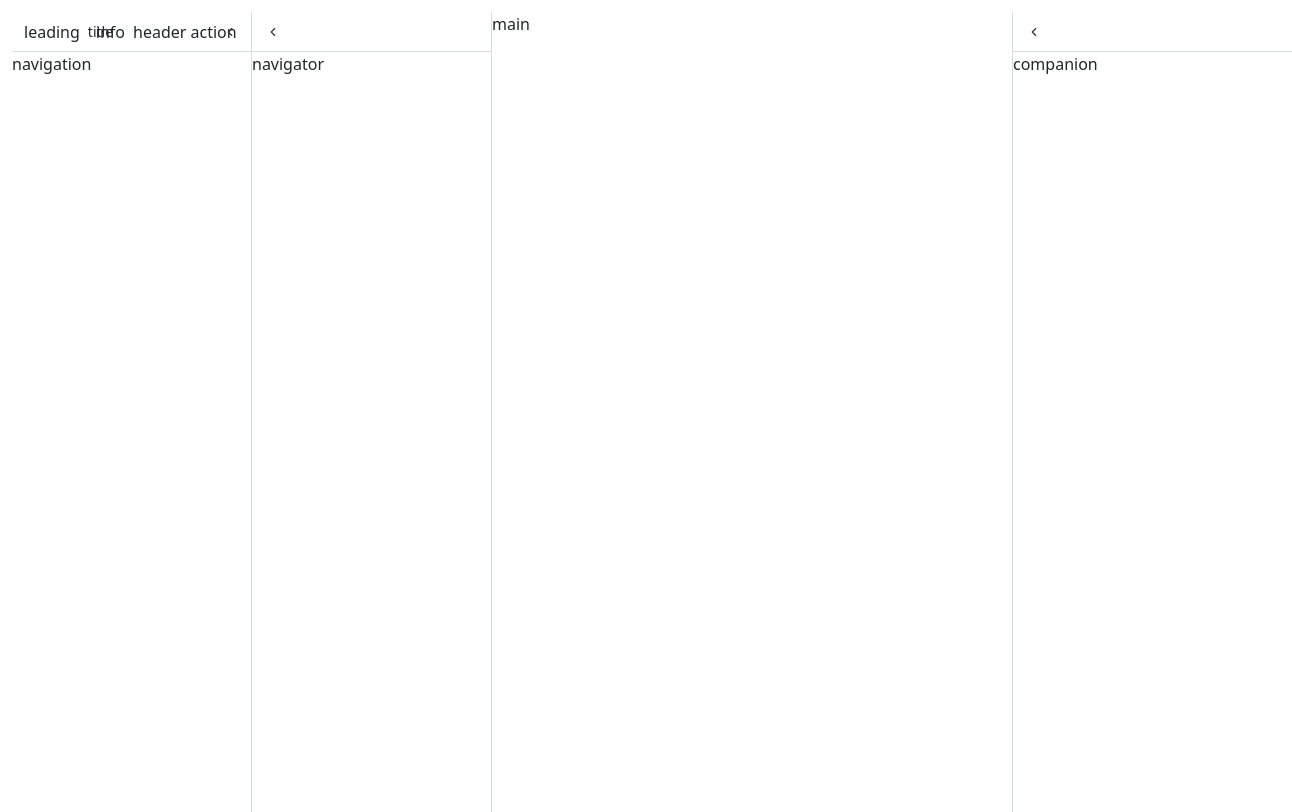
Test: ProductShell › applies the shared column surface, header slots and read-only collapse state
Expected: the text "leading" is shown, [24,20,80,44]
Expected: the text "title" is shown, [88,22,113,40]
Click the button named "shared.shell.collapseSidebar" in the row of "info".
click(230, 32)  # box [221,22,239,40]
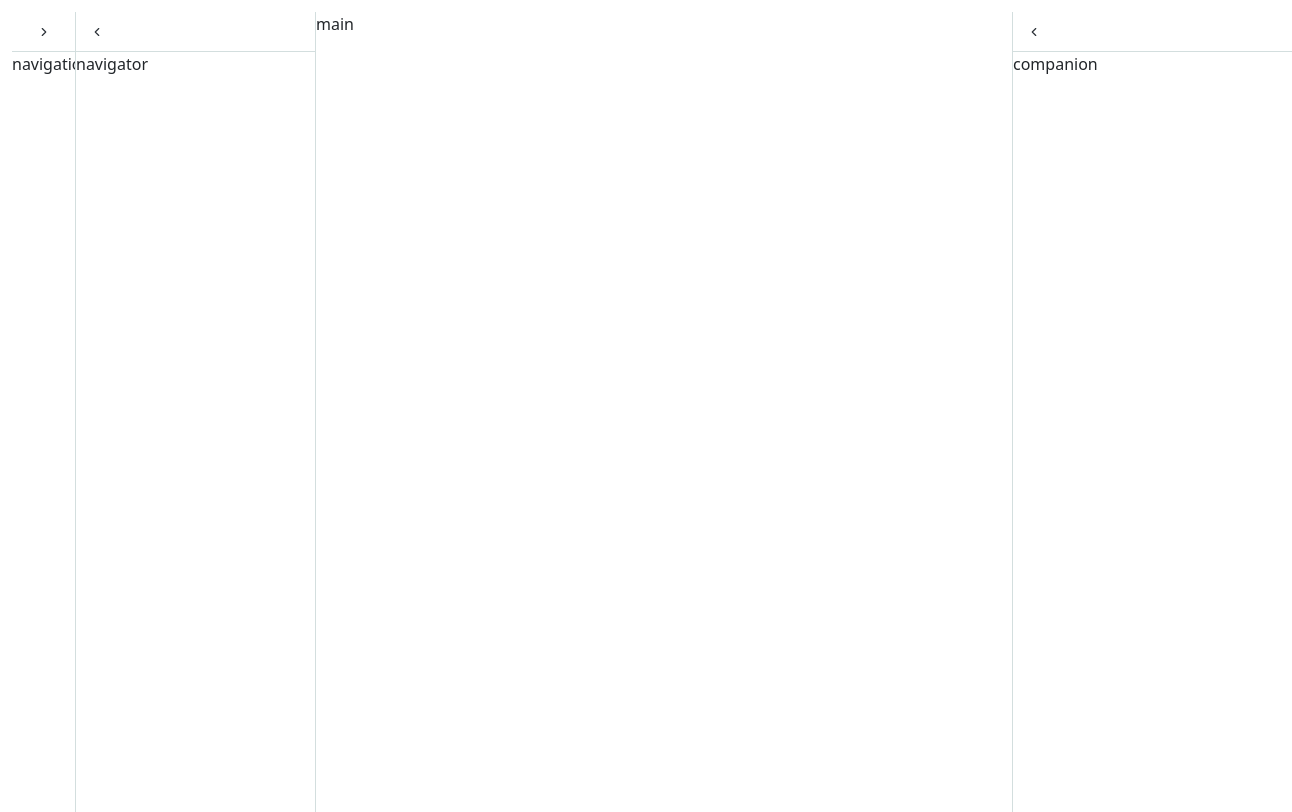
Result: the text with test id "header-leading" is gone
Result: the text with test id "header-title" is gone
Result: the button named "shared.shell.expandSidebar" is shown at [34,22,52,40]
